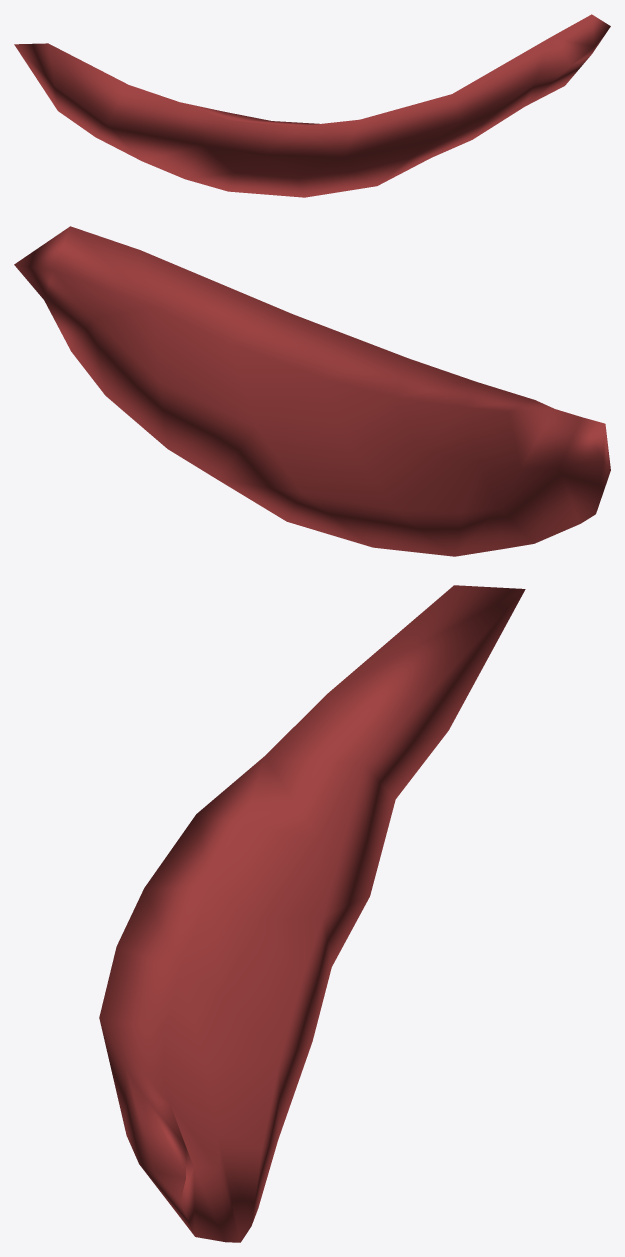
Rendered from inferior-tarsus-r.glb.
3 views of the same model, one above another, from view 1: azimuth 30°, elevation 25°; view 2: azimuth 150°, elevation 25°; view 3: azimuth 270°, elevation 25° (orthographic). The views are drawn at different scales.
Parts seen in each view (by area): view 1: Inferior tarsus.r; view 2: Inferior tarsus.r; view 3: Inferior tarsus.r.
Boxes of the visible parts, x1,y1,x2,y2 form: Inferior tarsus.r: (14, 14, 610, 197); Inferior tarsus.r: (14, 226, 610, 556); Inferior tarsus.r: (99, 585, 525, 1242).
Bounding box in the file's own units: 0.0237 × 0.00776 × 0.00856.
